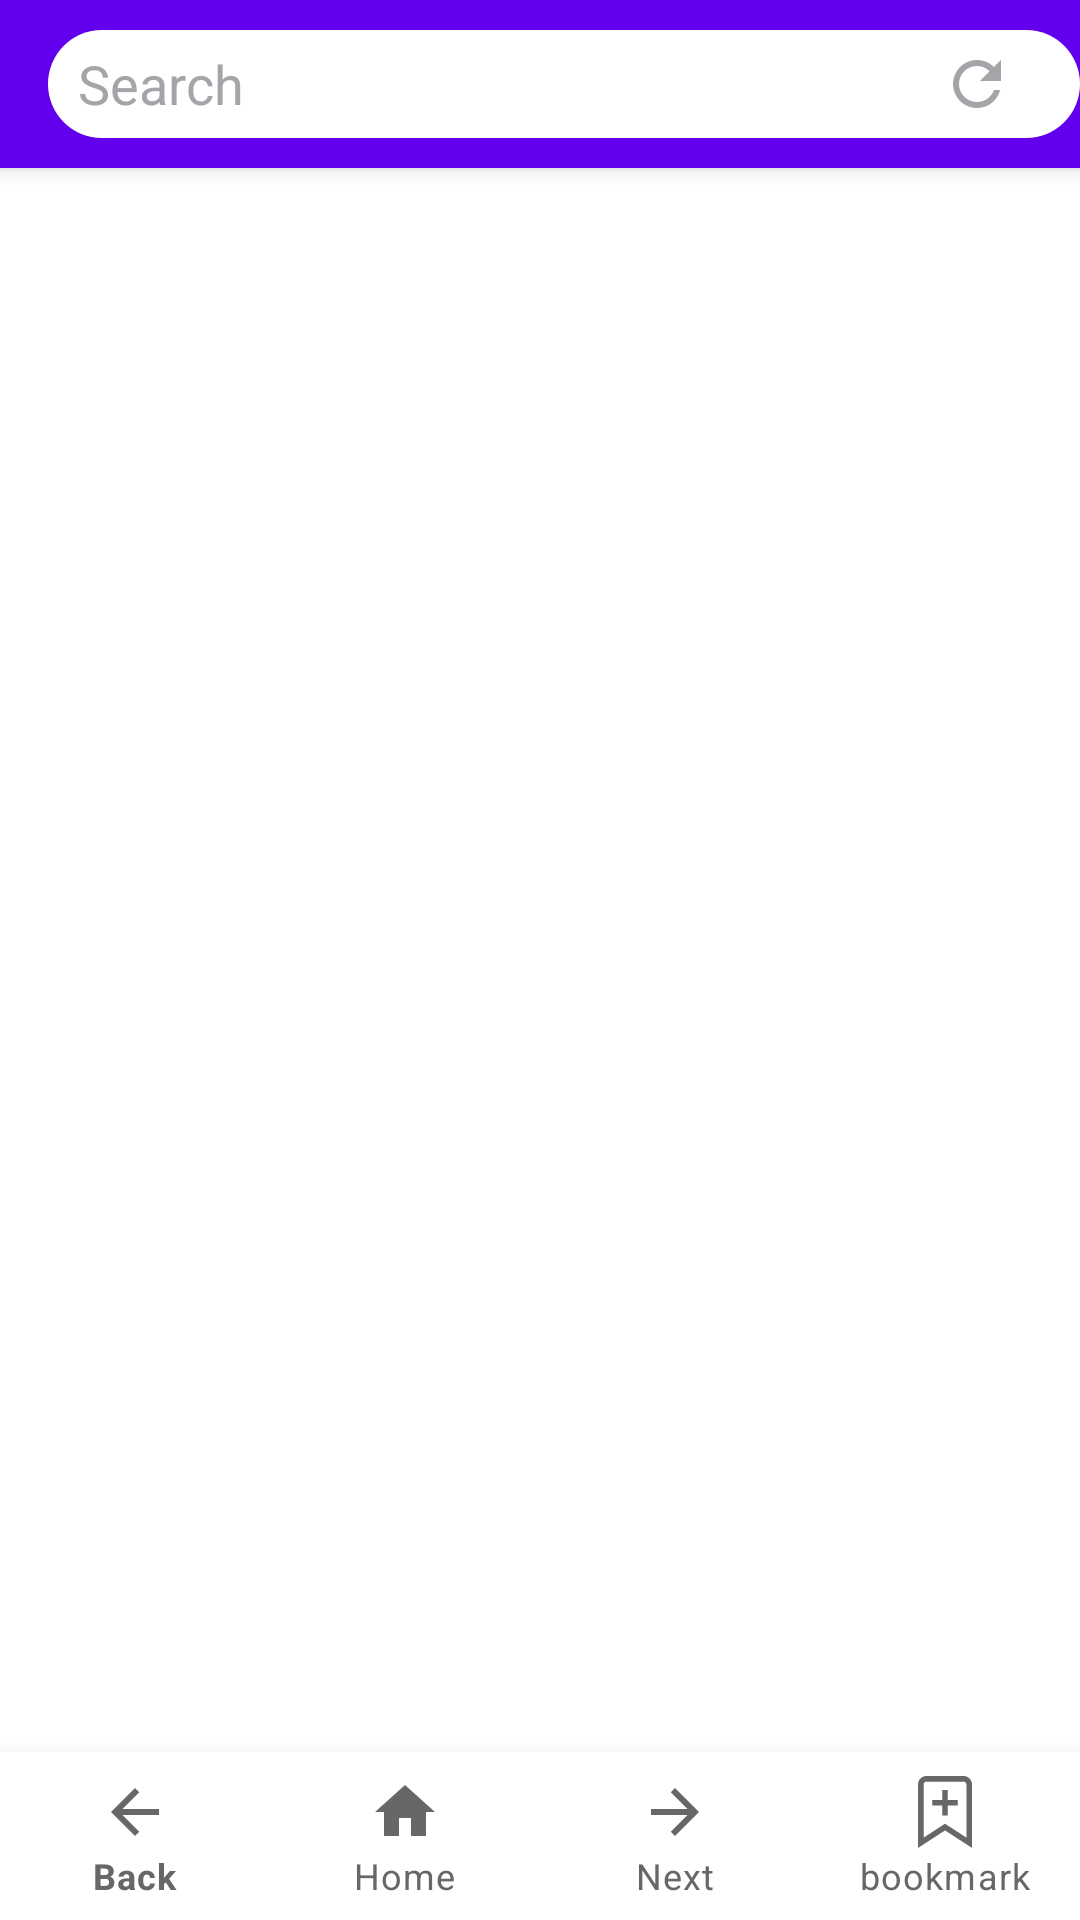

Screen size 1080w x 1920h. Icon name, then its box in pixels as (x1, y1, x2, y2):
refresh: (873, 30, 1080, 138)
